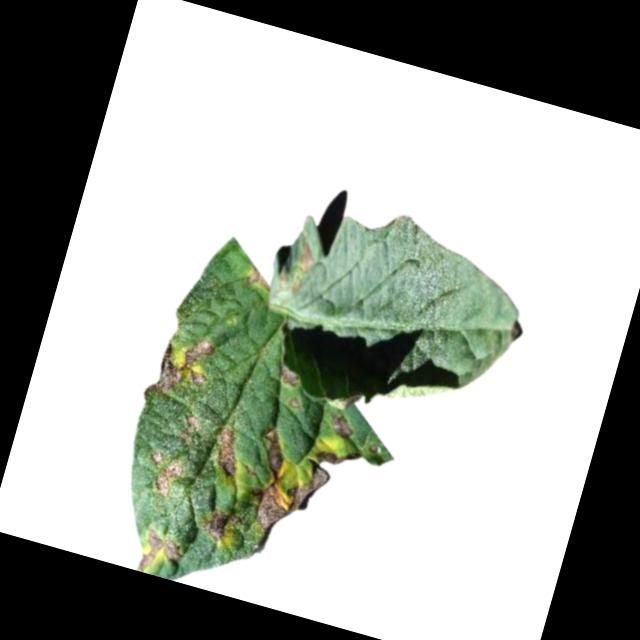Early_blight: (236, 426, 339, 545), (141, 324, 218, 410), (133, 525, 187, 581), (276, 233, 321, 296), (143, 449, 188, 500), (210, 425, 249, 480), (312, 442, 358, 472), (203, 506, 232, 543), (244, 262, 276, 294), (176, 409, 200, 448), (327, 409, 358, 439), (277, 364, 303, 387), (283, 394, 303, 410)
